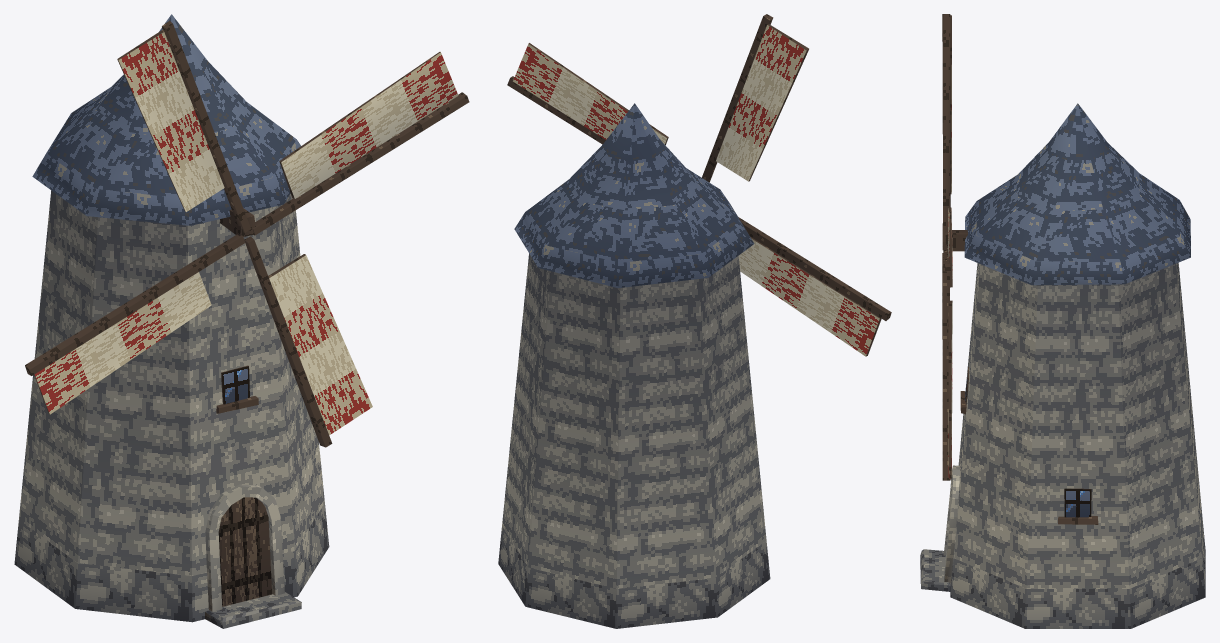
File: vlg.mill.glb
The picture shows the model from 3 angles, left to right: view 1: azimuth 30°, elevation 25°; view 2: azimuth 150°, elevation 25°; view 3: azimuth 270°, elevation 25°; orthographic projection. The views are drawn at different scales.
Parts seen in each view (by area): view 1: kit_walls, kit_fittings, kit_roof, kit_frame; view 2: kit_walls, kit_roof, kit_fittings, kit_frame; view 3: kit_walls, kit_roof, kit_fittings, kit_frame.
Part boxes in pixels (x1=…): kit_walls: x1=14, y1=190, x2=329, y2=622; kit_fittings: x1=34, y1=30, x2=458, y2=628; kit_roof: x1=32, y1=14, x2=300, y2=225; kit_frame: x1=25, y1=20, x2=469, y2=447; kit_walls: x1=498, y1=253, x2=770, y2=628; kit_roof: x1=514, y1=103, x2=754, y2=288; kit_fittings: x1=513, y1=24, x2=881, y2=356; kit_frame: x1=507, y1=14, x2=891, y2=320; kit_walls: x1=950, y1=262, x2=1205, y2=628; kit_roof: x1=964, y1=103, x2=1190, y2=285; kit_fittings: x1=920, y1=15, x2=1098, y2=591; kit_frame: x1=942, y1=14, x2=967, y2=480.
Size of the model in its own units: 8.33 by 10.99 by 5.37.
Materials: 9 (9 with a texture image).
